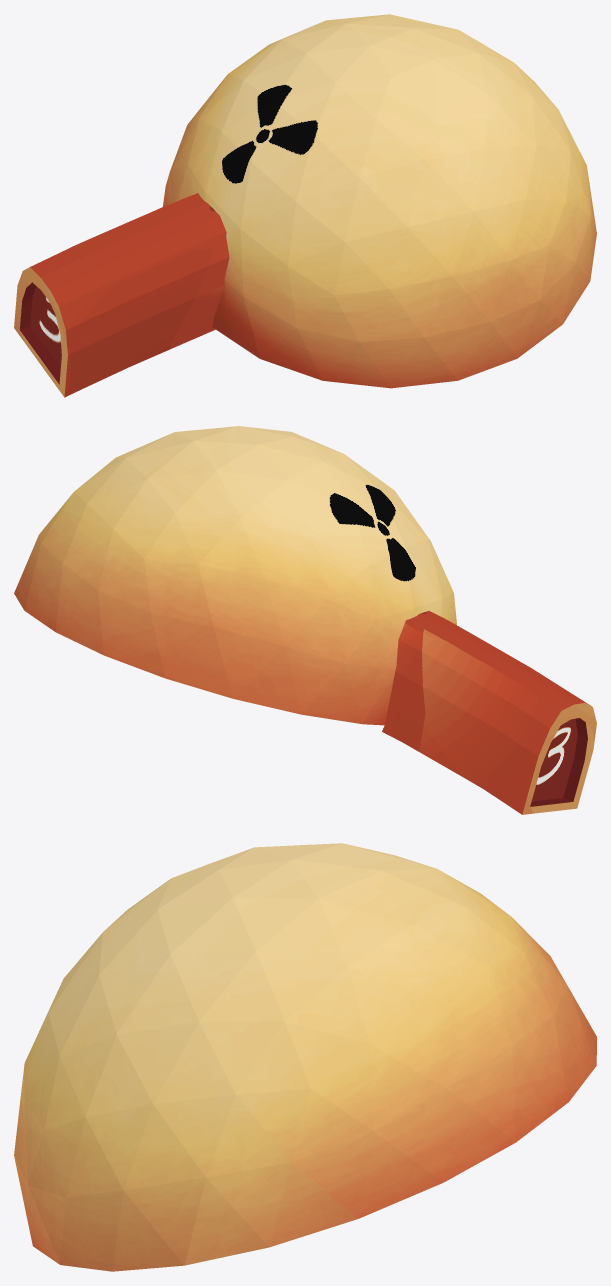
3 views of the same model, one above another, from view 1: azimuth 30°, elevation 25°; view 2: azimuth 150°, elevation 25°; view 3: azimuth 270°, elevation 25° (orthographic). The views are drawn at different scales.
Visible parts, largest first — view 1: Icosphere.003; view 2: Icosphere.003; view 3: Icosphere.003.
Boxes of the visible parts, x1,y1,x2,y2 form: Icosphere.003: (14,14,596,397); Icosphere.003: (14,426,596,814); Icosphere.003: (14,843,596,1271).
Bounding box in the file's own units: 0.6634 × 0.337 × 0.4693.
1 material, 1 textured.
